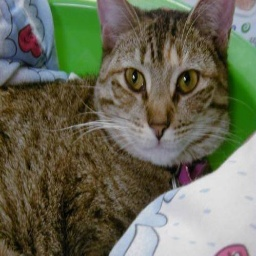cat: (1, 0, 236, 253)
